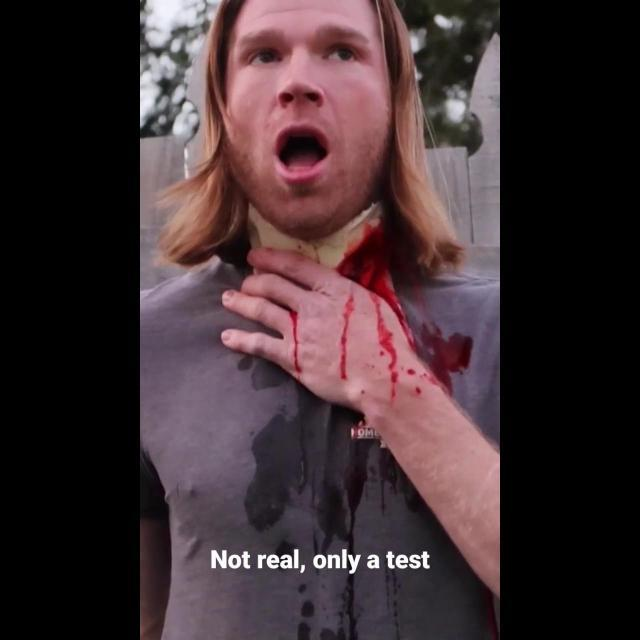blood: (336, 224, 473, 395), (288, 273, 439, 427)
